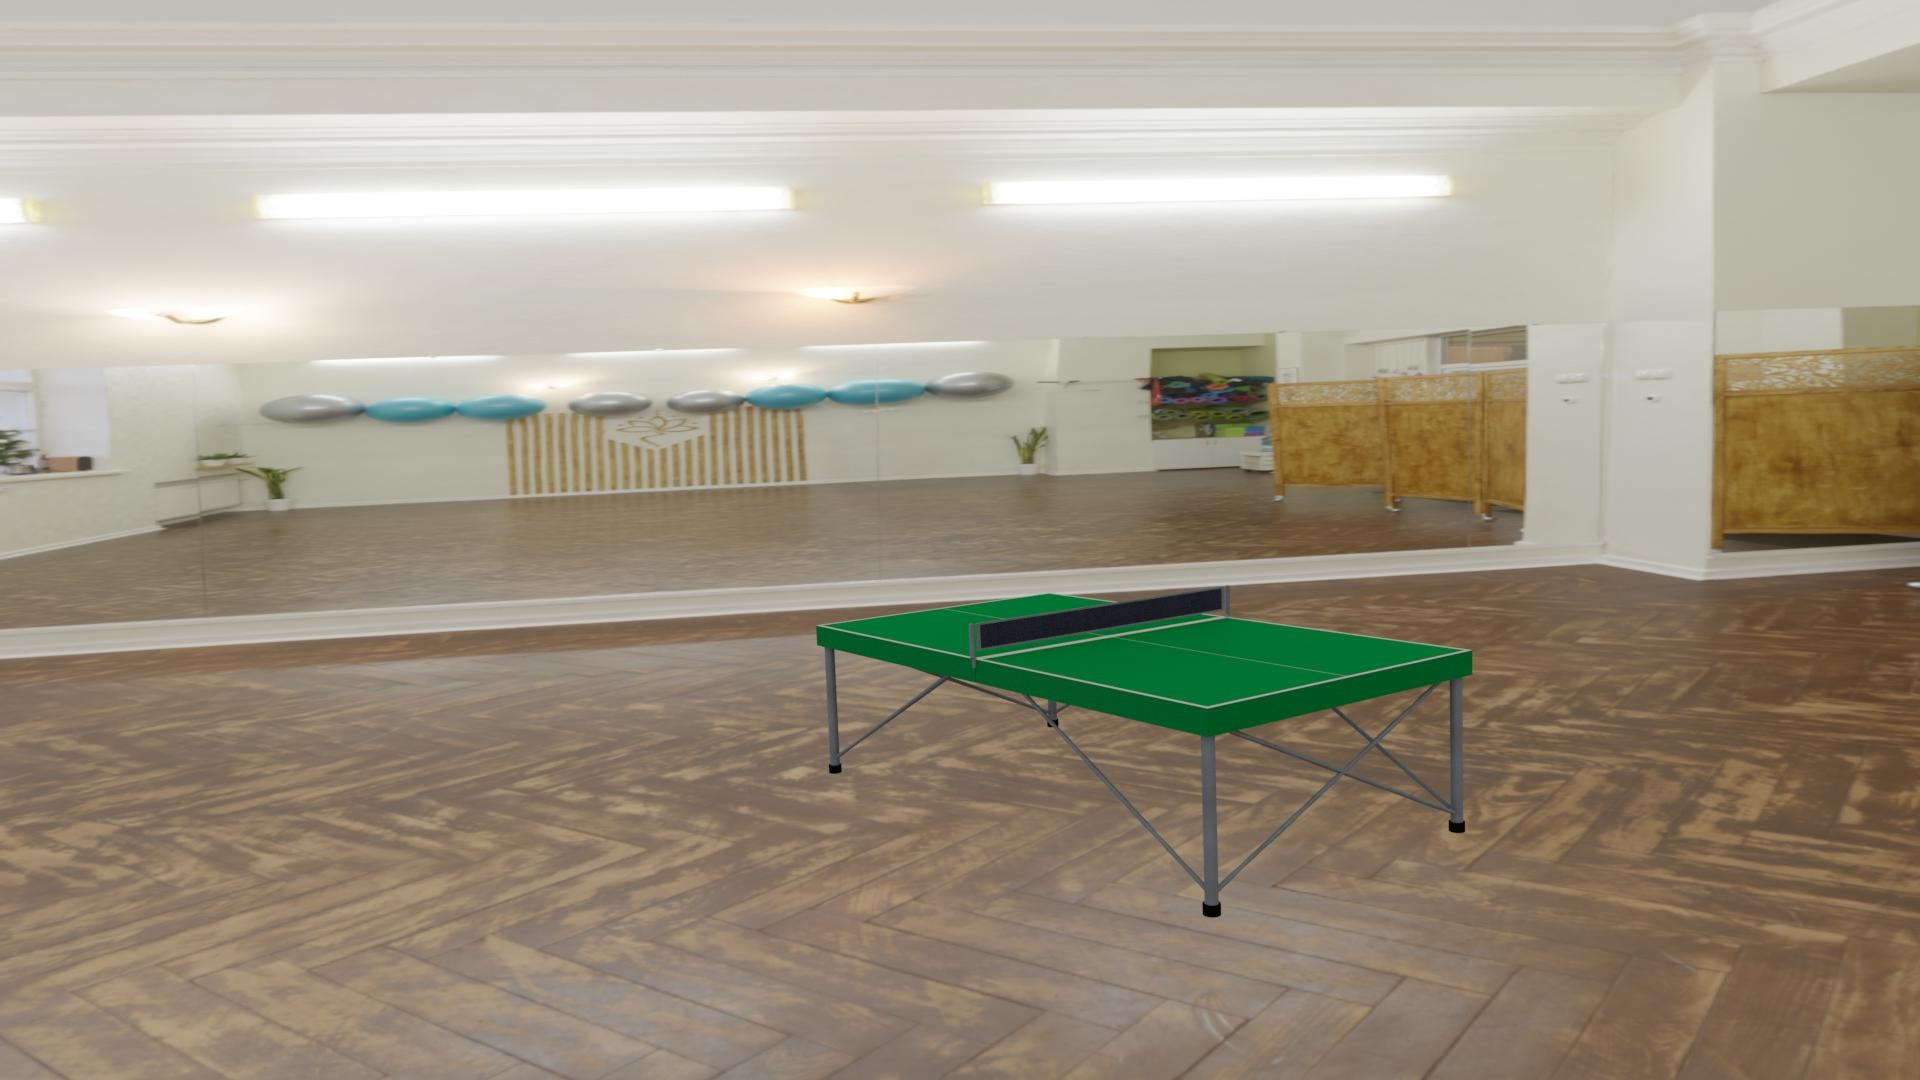table: (822, 593, 1465, 707)
